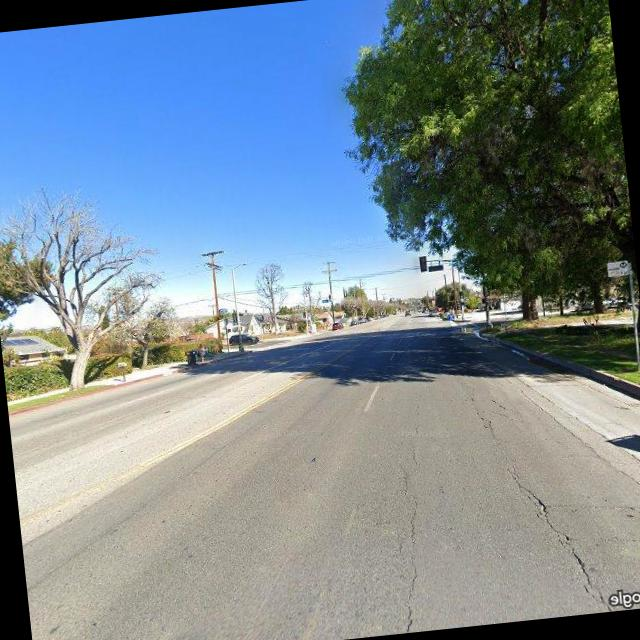crack: (512, 456, 604, 604), (381, 447, 441, 632)
